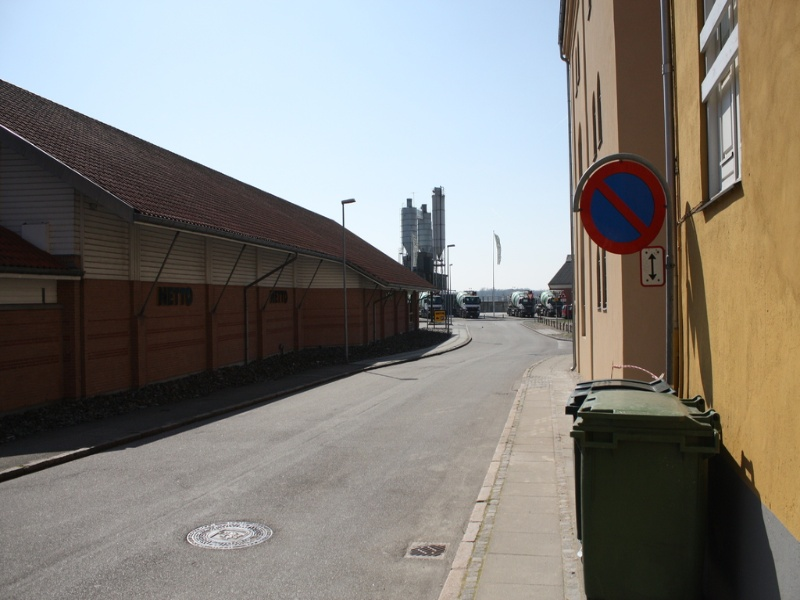no_entry: (578, 158, 671, 256)
